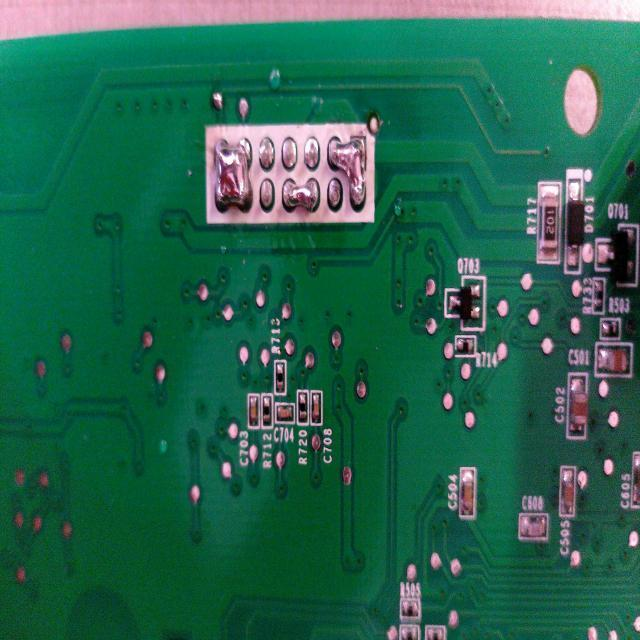Soldering shorted: (327, 132, 368, 218), (210, 137, 253, 216), (278, 174, 322, 213)
